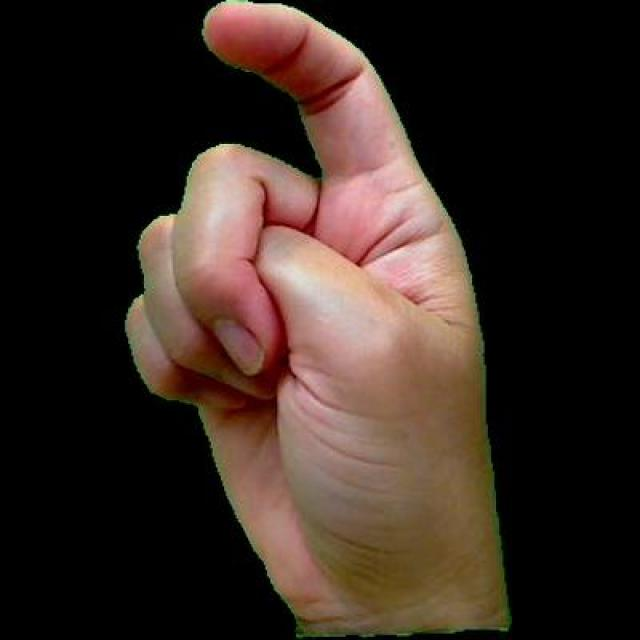x: (100, 0, 510, 637)
